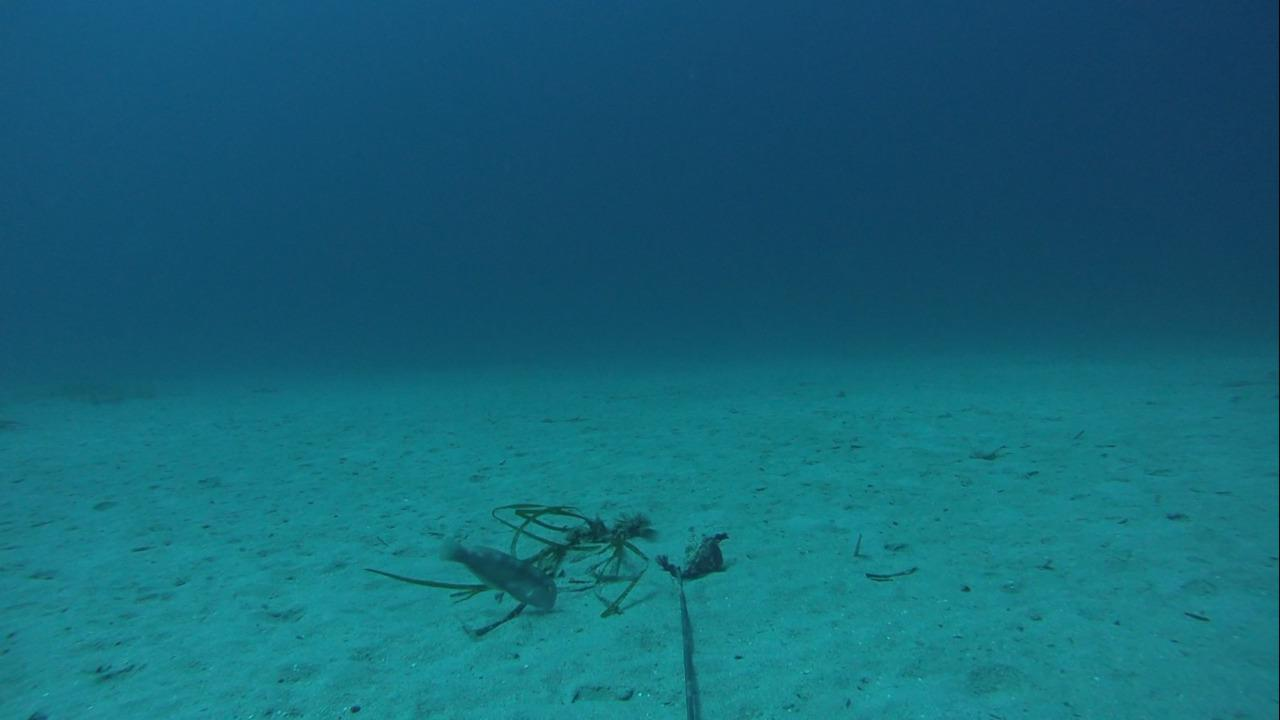raor: (433, 534, 559, 616)
